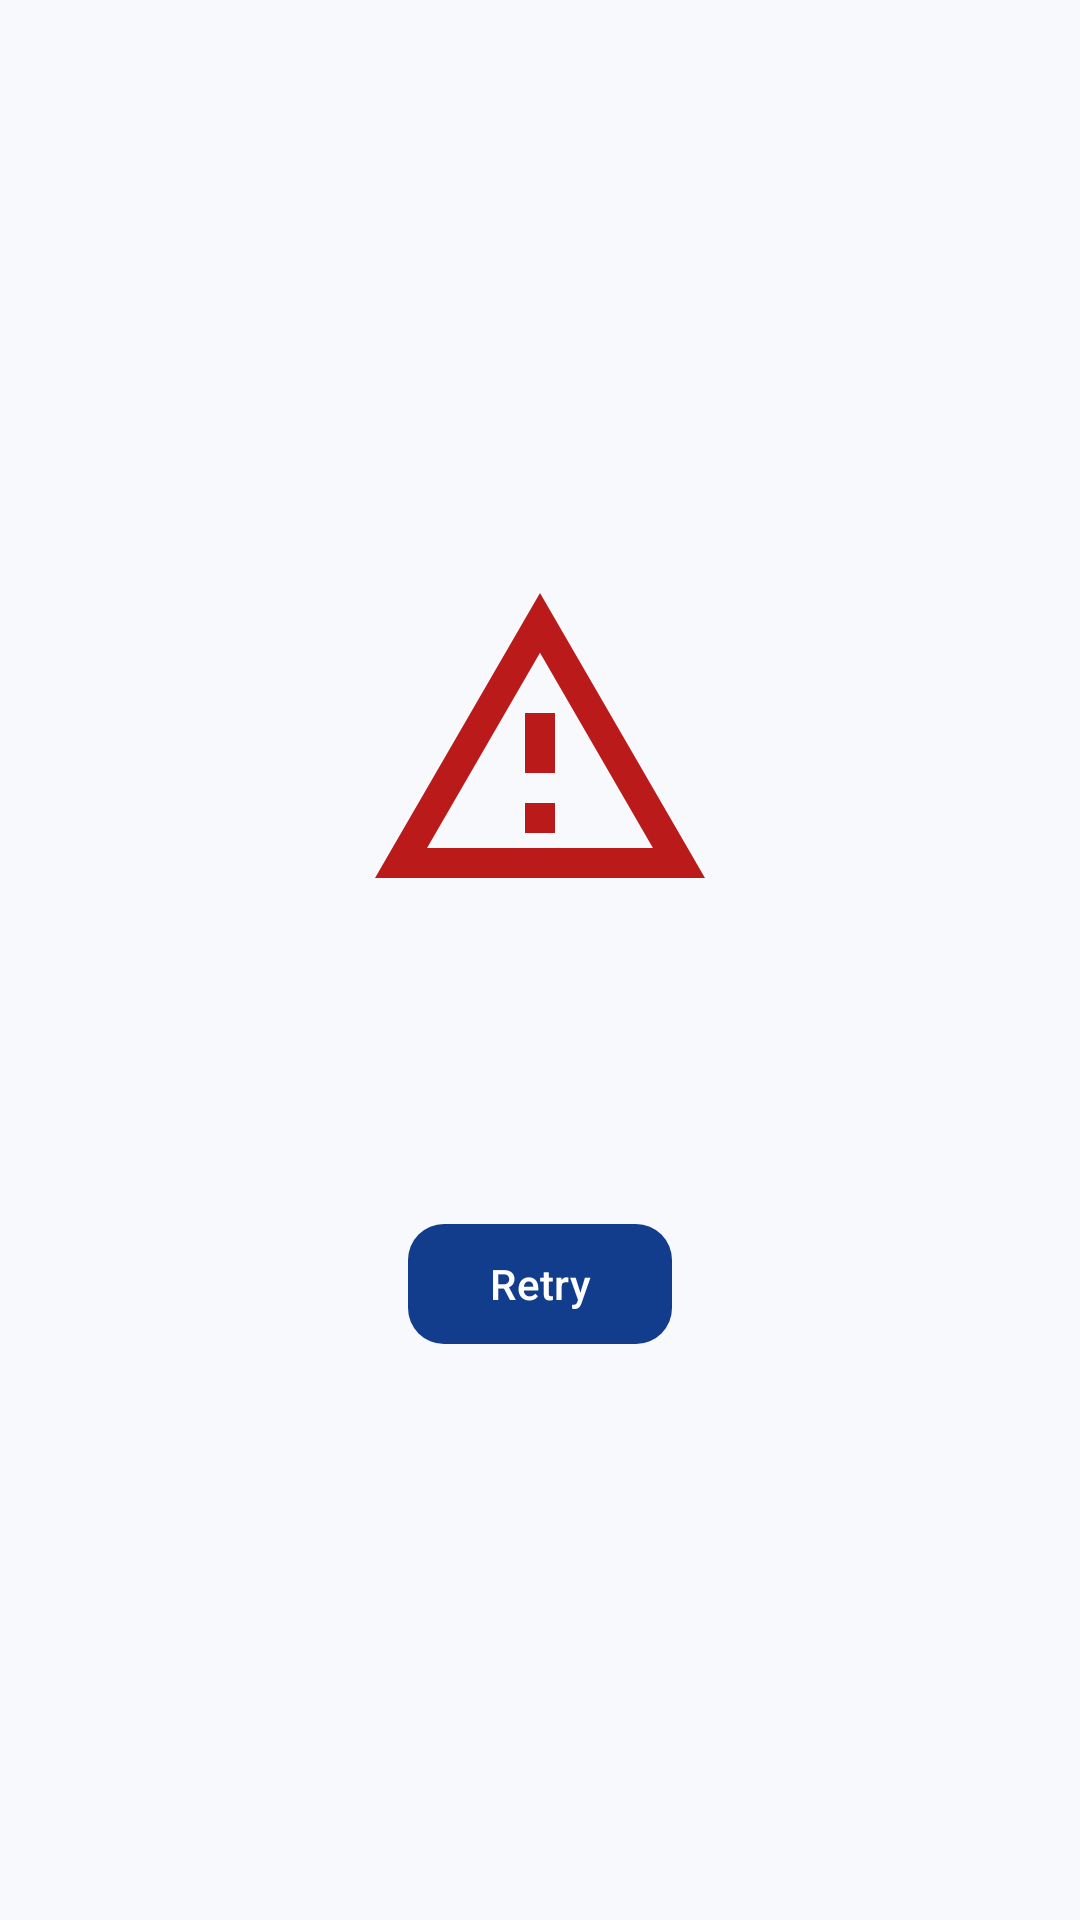

Icon click points for this 1080×1920 phone screenshot, format (x=x, y=y):
warning amber: (x=540, y=735)
